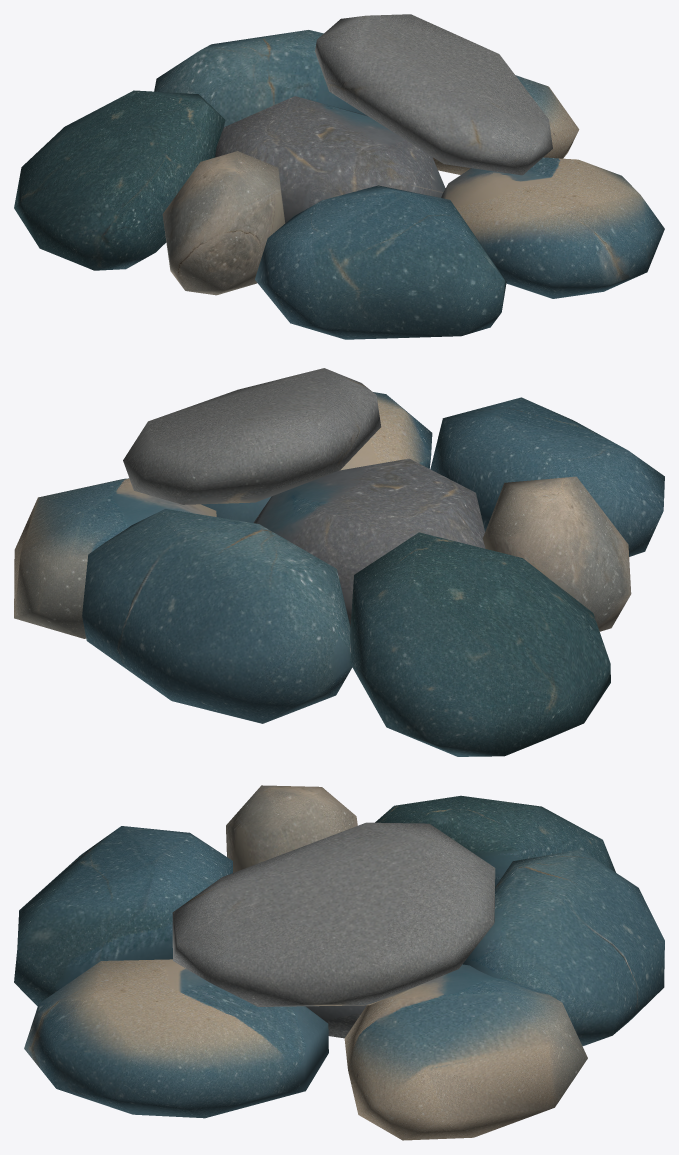
File: nature-blue-beach-pebbles.glb
3 renders of one model, top to bottom at view 1: azimuth 30°, elevation 25°; view 2: azimuth 150°, elevation 25°; view 3: azimuth 270°, elevation 25°, orthographic. The views are drawn at different scales.
Bounding box in the file's own units: 1 × 0.3618 × 0.9952.
Materials: 1 (1 with a texture image).
